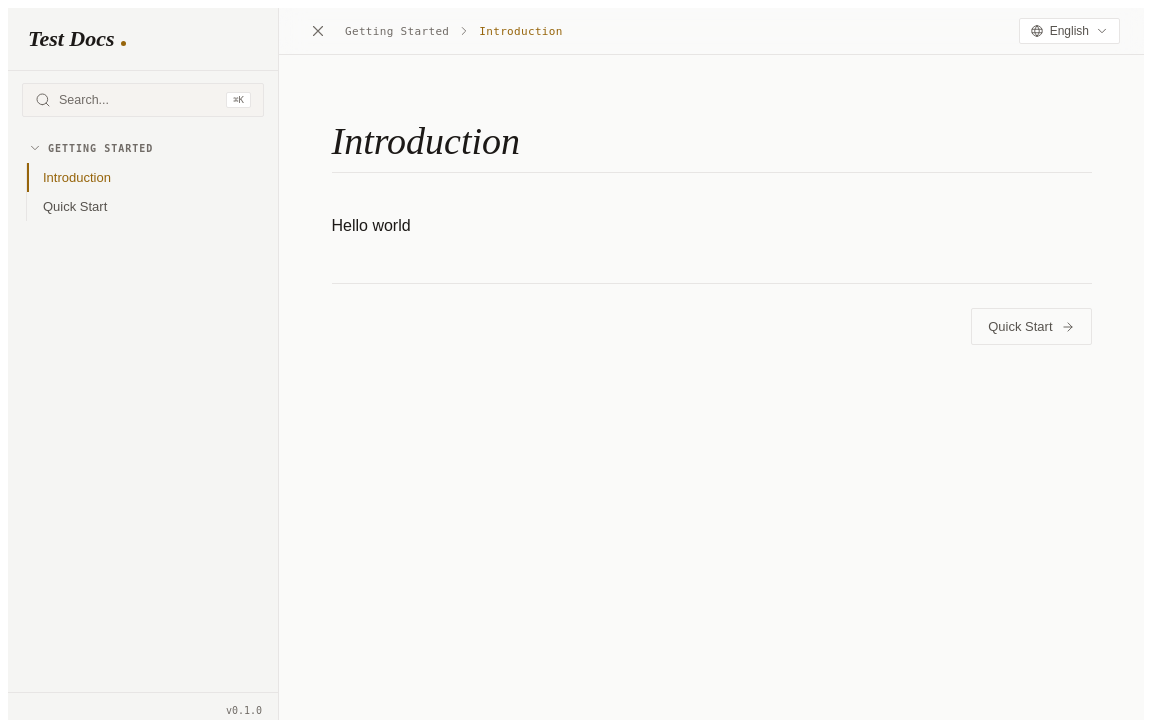
Test: Shell language switcher › opens dropdown when language switcher is clicked
The width and height of the screenshot is (1152, 720).
Click the button with test id "language-switcher".
click(1069, 31)  # box [1019, 18, 1120, 44]
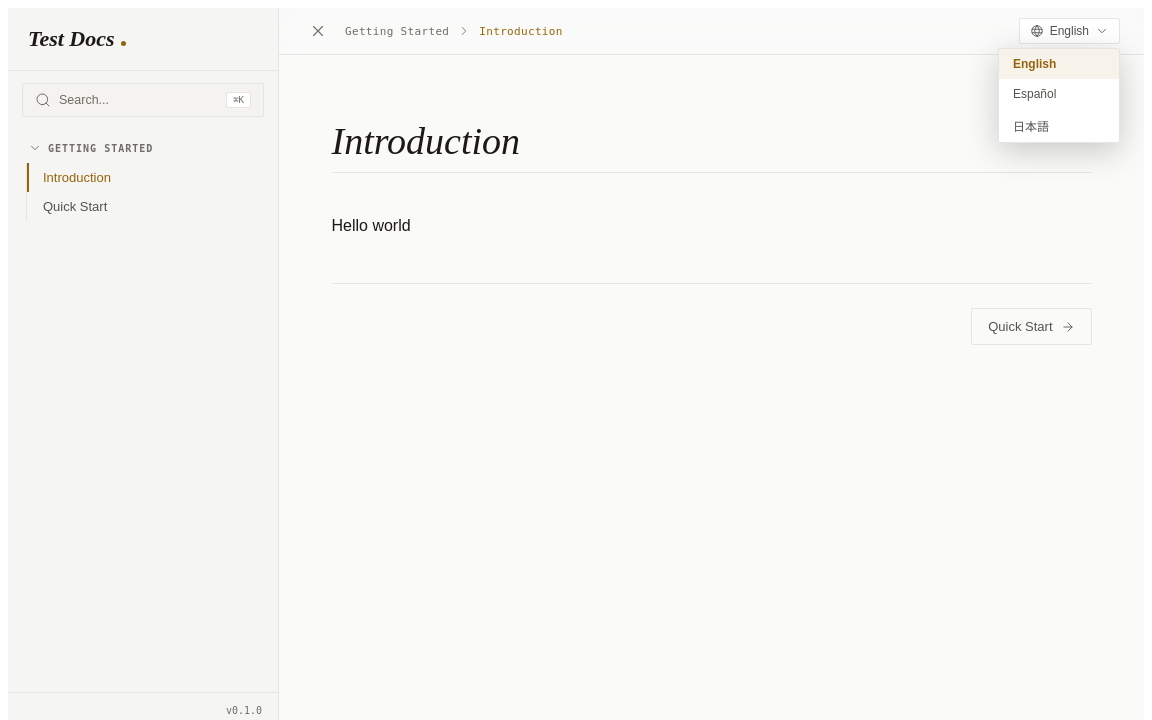
Expected: the element with test id "language-dropdown" is shown, [998, 48, 1120, 143]
